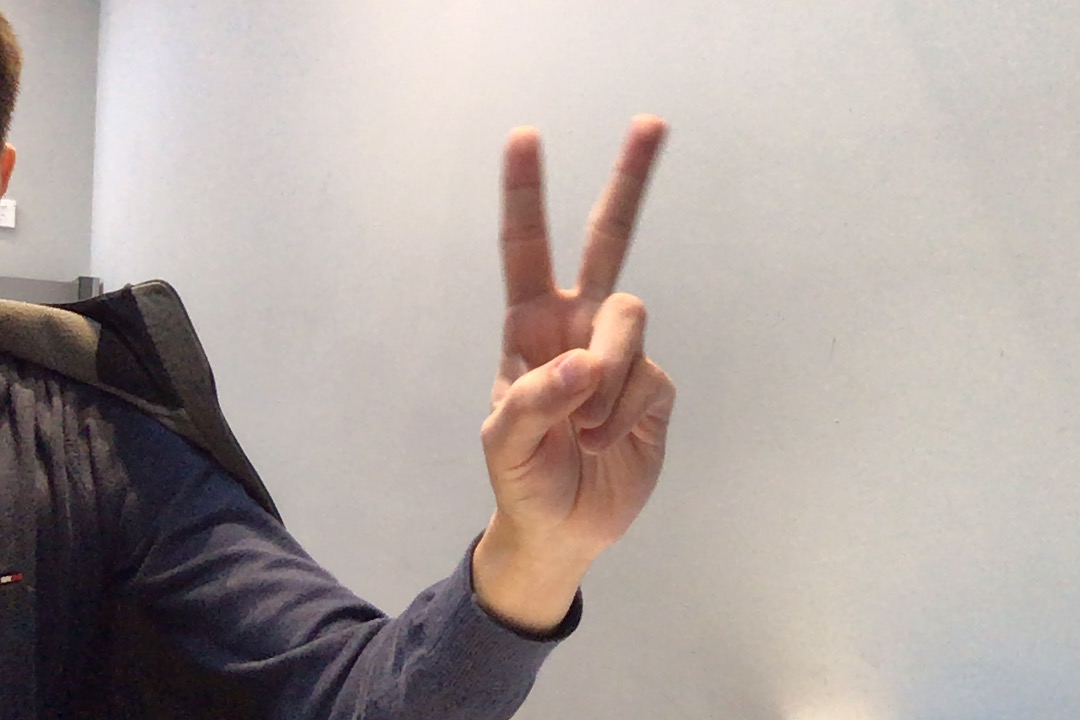peacesign: (465, 107, 696, 572)
